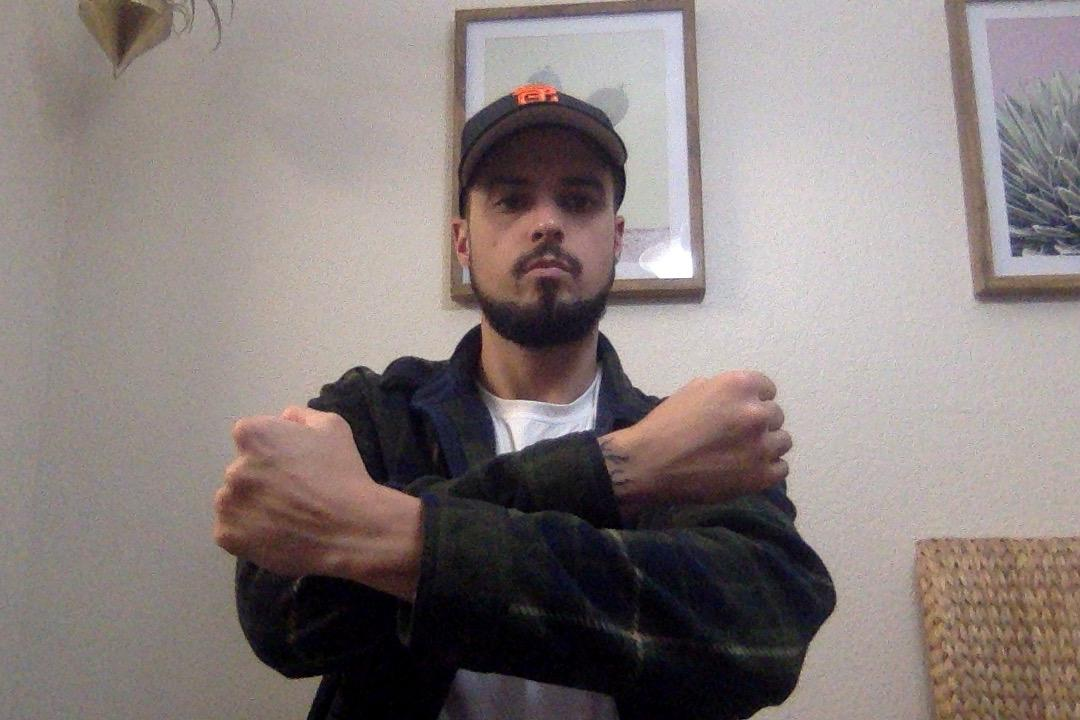Left-Fist: (613, 363, 793, 515)
Right-Fist: (211, 392, 412, 586)
